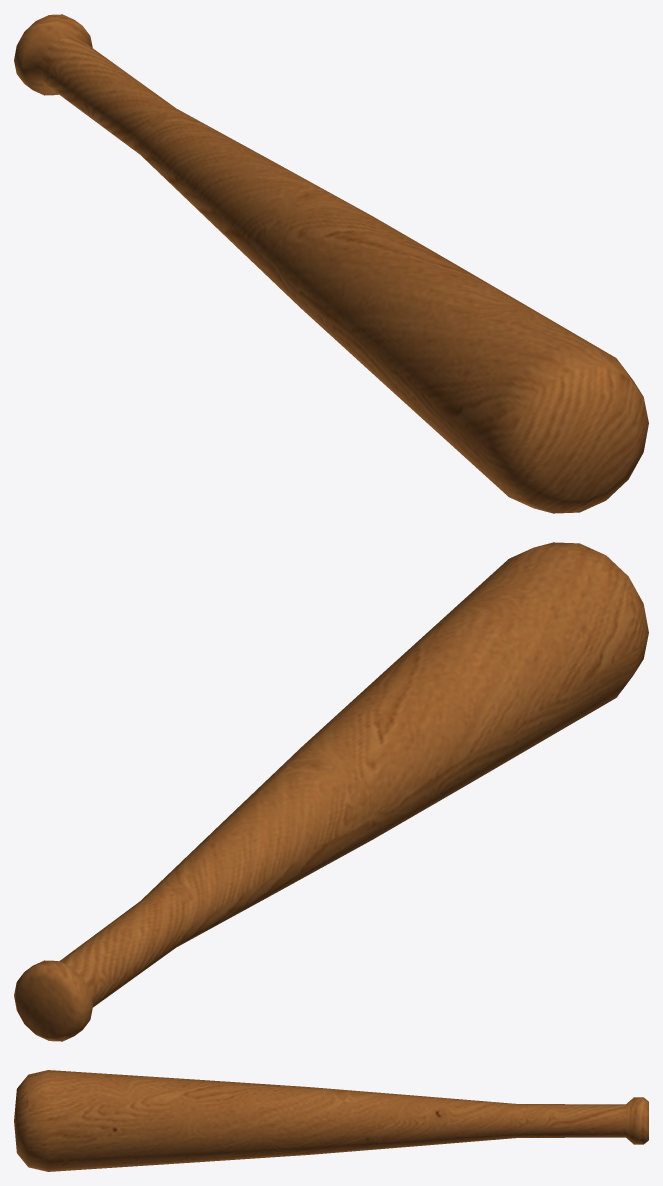
Rendered from Bat.fbx.
3 views of the same model, one above another, from view 1: azimuth 30°, elevation 25°; view 2: azimuth 150°, elevation 25°; view 3: azimuth 270°, elevation 25° (orthographic). The views are drawn at different scales.
Parts seen in each view (by area): view 1: Bat; view 2: Bat; view 3: Bat.
Boxes of the visible parts, <box> form: Bat: <box>14,14,648,513</box>; Bat: <box>14,542,648,1041</box>; Bat: <box>14,1070,648,1171</box>.
Size of the model in its own units: 7.99 by 7.99 by 49.74.
